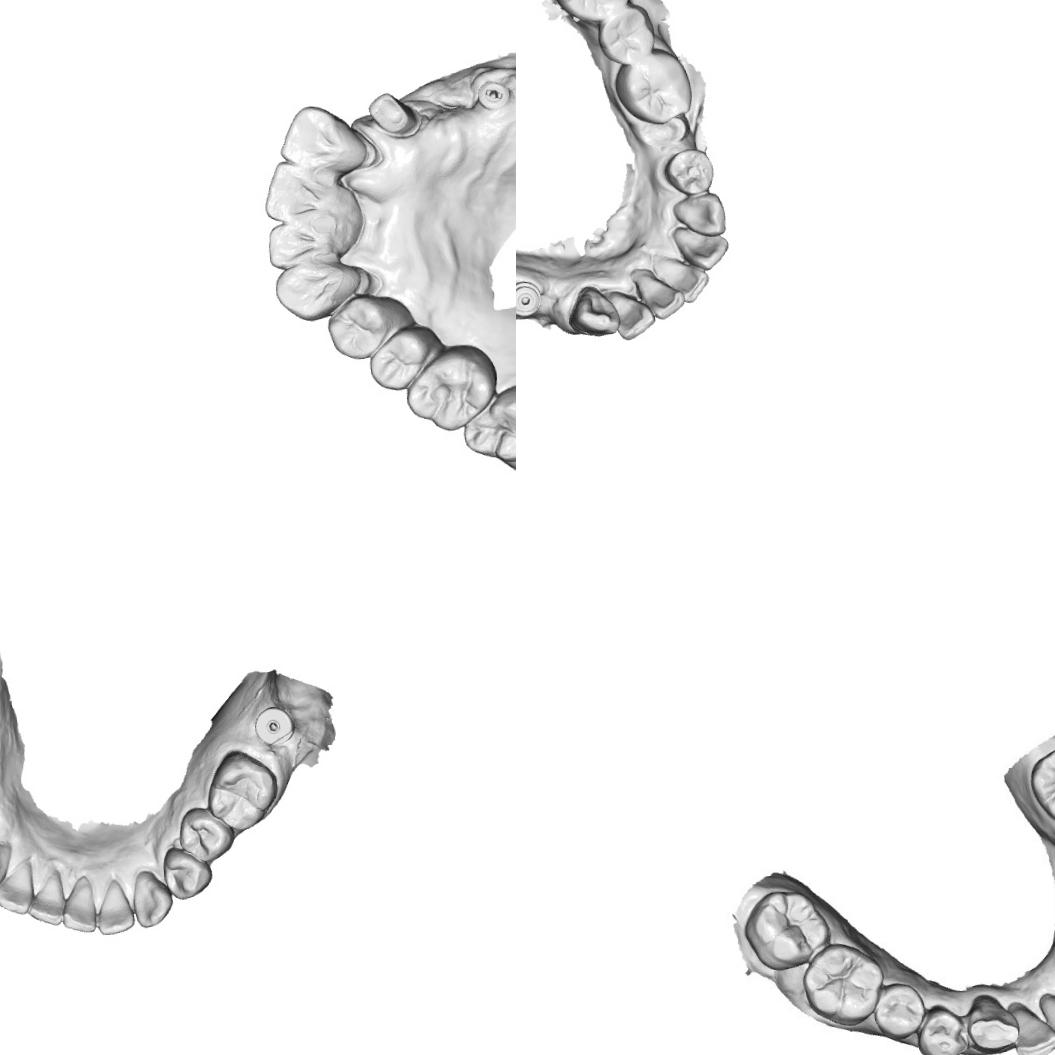abutment: (364, 85, 424, 142)
canine: (270, 257, 362, 324), (962, 993, 1022, 1054), (566, 284, 620, 338), (130, 866, 176, 929), (670, 190, 728, 239), (0, 841, 15, 893)
implant: (252, 703, 296, 747), (516, 279, 542, 318)
implant_minus: (474, 75, 512, 115)
incisor: (274, 99, 368, 176), (258, 156, 330, 227), (262, 216, 334, 272), (630, 264, 686, 321), (671, 221, 730, 272), (606, 287, 656, 341), (1009, 998, 1055, 1055), (94, 876, 136, 936), (24, 868, 66, 927), (59, 873, 98, 935), (0, 859, 35, 915), (672, 262, 710, 304), (1037, 989, 1055, 1051)
molar: (398, 342, 500, 436), (794, 940, 888, 1030), (741, 884, 834, 972), (610, 44, 694, 127), (202, 747, 280, 833), (455, 377, 516, 468), (594, 2, 656, 66), (1023, 741, 1055, 826), (546, 0, 635, 25)
premolar: (323, 292, 398, 361), (364, 323, 436, 393), (870, 978, 927, 1044), (176, 803, 236, 865), (160, 841, 214, 901), (914, 1002, 967, 1055), (660, 146, 716, 196)
